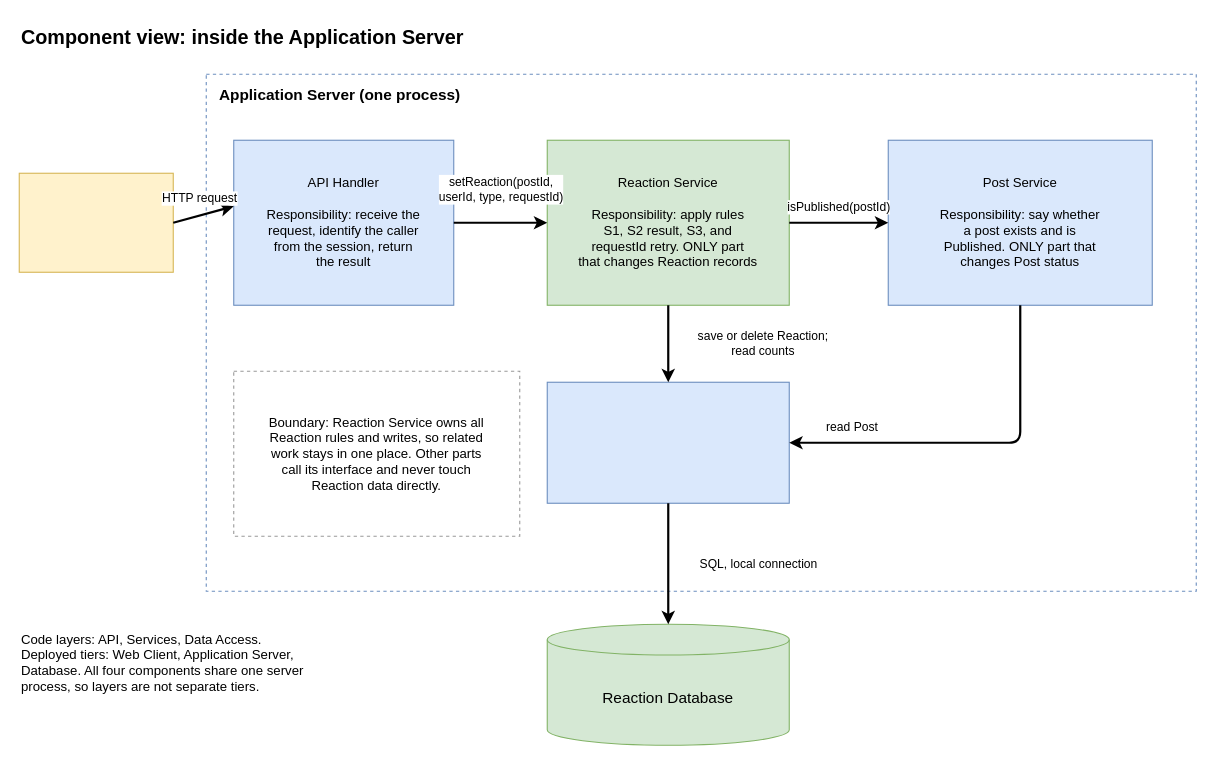
Some shapes in this 1216 by 765 pixel diagram are drawn without their labels. The shapes that lost their labels are listed below. From the top down, each one's centre as x and y in pixels, then its label:
At point 95,222: "Web Client".
At point 667,442: "Data Access Responsibility: run protected reads and writes".
